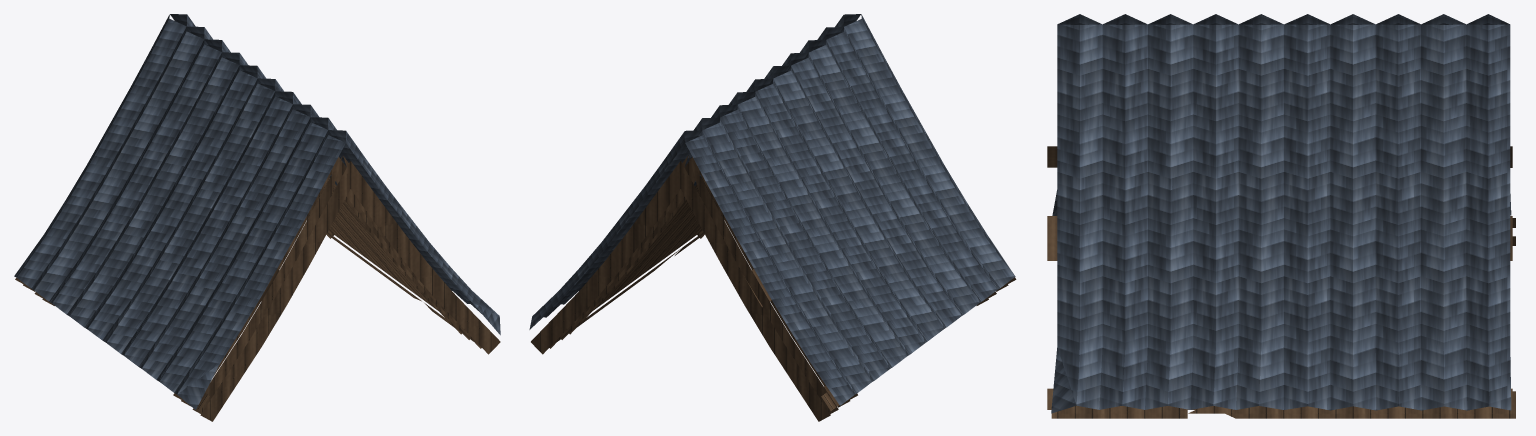
File: Roof_Slate_4x4_LOD1.gltf
3 renders of one model, left to right at view 1: azimuth 30°, elevation 25°; view 2: azimuth 150°, elevation 25°; view 3: azimuth 270°, elevation 25°, orthographic. The views are drawn at different scales.
Parts seen in each view (by area): view 1: Roof_Slate_4x4_LOD1; view 2: Roof_Slate_4x4_LOD1; view 3: Roof_Slate_4x4_LOD1.
Part boxes in pixels (left/top/right/bottom): Roof_Slate_4x4_LOD1: left=14, top=14, right=500, bottom=421; Roof_Slate_4x4_LOD1: left=529, top=14, right=1016, bottom=421; Roof_Slate_4x4_LOD1: left=1047, top=14, right=1515, bottom=418.
Size of the model in its own units: 5.51 by 4.01 by 5.49.
2 materials, 2 textured.
